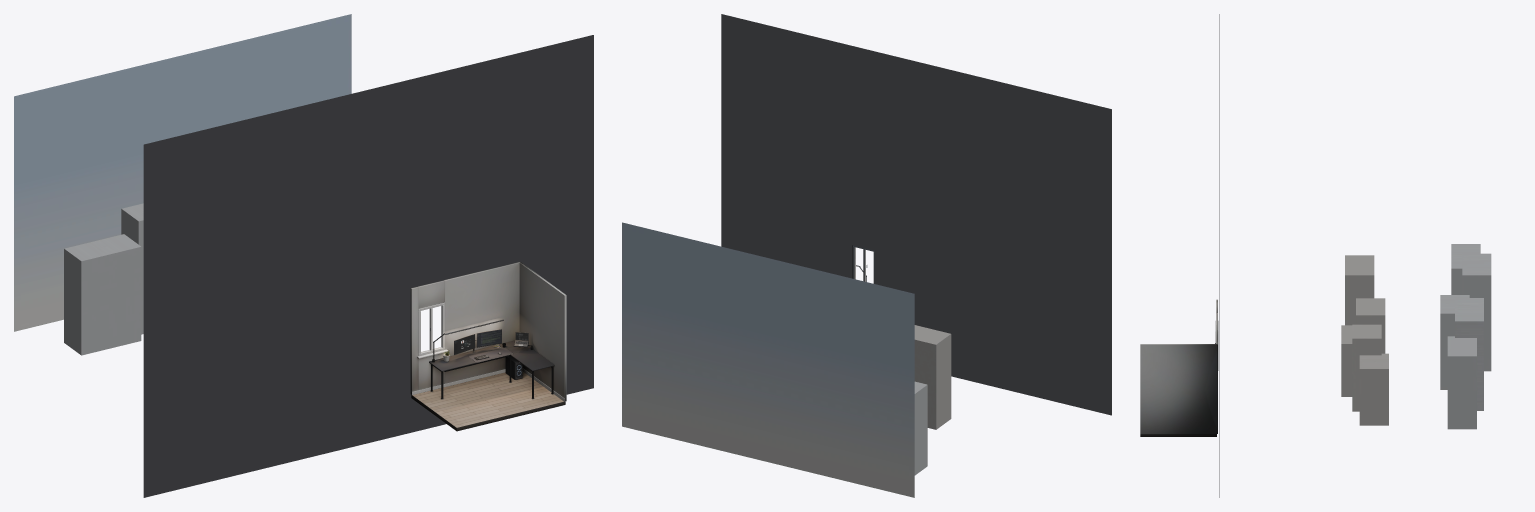
File: stanza.glb
The picture shows the model from 3 angles, left to right: view 1: azimuth 30°, elevation 25°; view 2: azimuth 150°, elevation 25°; view 3: azimuth 270°, elevation 25°; orthographic projection. The views are drawn at different scales.
Parts seen in each view (by area): view 1: buio, fuori, stanza, mobili, oggetti; view 2: buio, fuori; view 3: fuori, stanza, buio.
Part boxes in pixels (left/top/right/bottom): buio: left=143, top=35, right=593, bottom=497; fuori: left=14, top=14, right=351, bottom=355; stanza: left=410, top=262, right=566, bottom=431; mobili: left=429, top=340, right=554, bottom=399; oggetti: left=432, top=319, right=532, bottom=362; buio: left=721, top=14, right=1111, bottom=415; fuori: left=622, top=222, right=951, bottom=497; fuori: left=1341, top=244, right=1491, bottom=429; stanza: left=1140, top=299, right=1218, bottom=436; buio: left=1219, top=14, right=1219, bottom=497.
Size of the model in its own units: 12 by 9 by 10.4.
9 materials, 7 textured.
